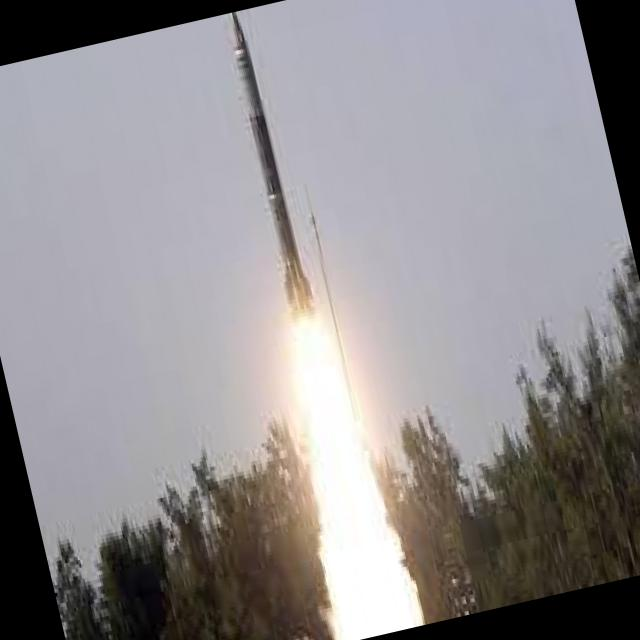rocket: (217, 13, 357, 474)
